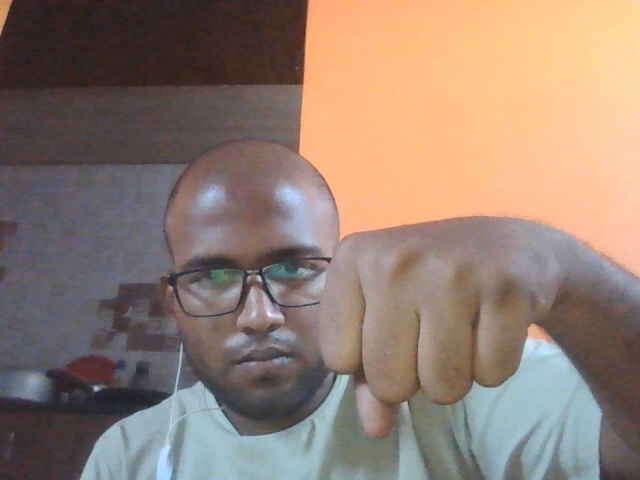yes: (297, 176, 610, 453)
